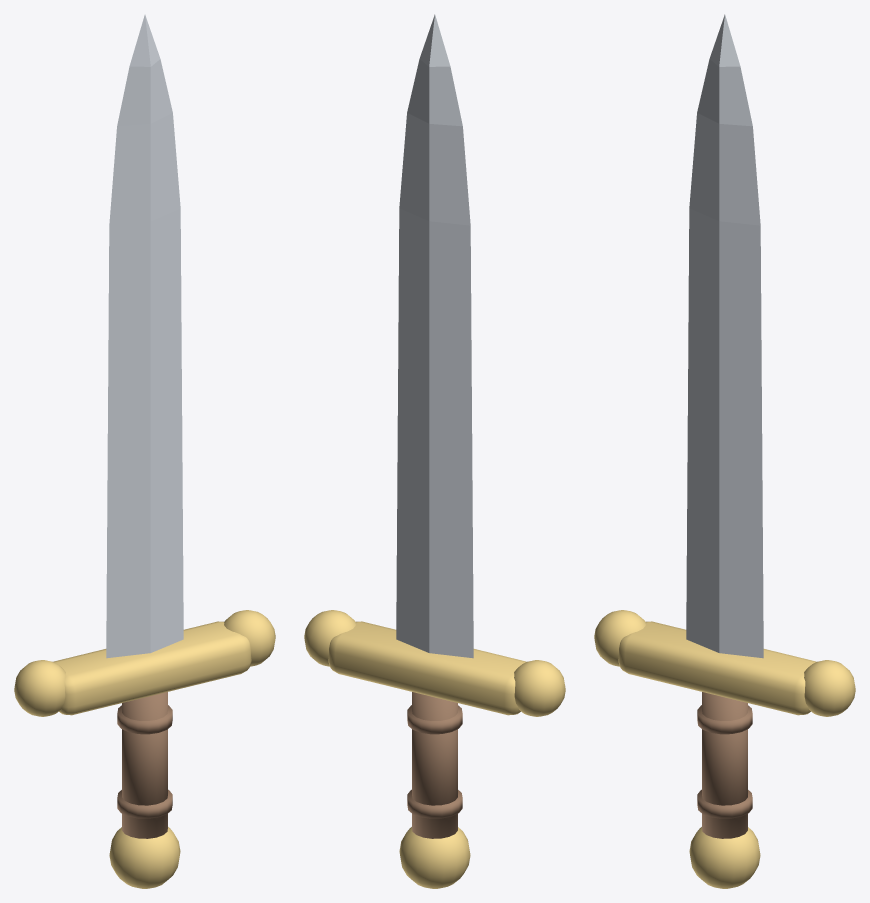
Rendered from StarterSword.fbx.
The picture shows the model from 3 angles, left to right: view 1: azimuth 30°, elevation 25°; view 2: azimuth 150°, elevation 25°; view 3: azimuth 330°, elevation 25°; orthographic projection.
Parts seen in each view (by area): view 1: Blade, Guard, Grip, Pommel; view 2: Blade, Guard, Grip, Pommel; view 3: Blade, Guard, Grip, Pommel.
Boxes of the visible parts, left/top/right/bottom form: Blade: left=106, top=14, right=183, bottom=658; Guard: left=14, top=610, right=275, bottom=716; Grip: left=117, top=692, right=172, bottom=838; Pommel: left=109, top=827, right=180, bottom=888; Blade: left=396, top=14, right=473, bottom=658; Guard: left=304, top=610, right=565, bottom=716; Grip: left=407, top=692, right=462, bottom=838; Pommel: left=399, top=827, right=470, bottom=888; Blade: left=686, top=14, right=763, bottom=658; Guard: left=594, top=610, right=855, bottom=716; Grip: left=697, top=692, right=752, bottom=838; Pommel: left=689, top=827, right=760, bottom=888.
Size of the model in its own units: 1.64 by 5.37 by 0.4.
